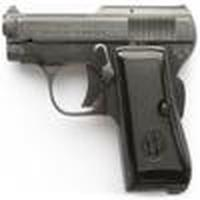gun: (1, 5, 197, 199)
